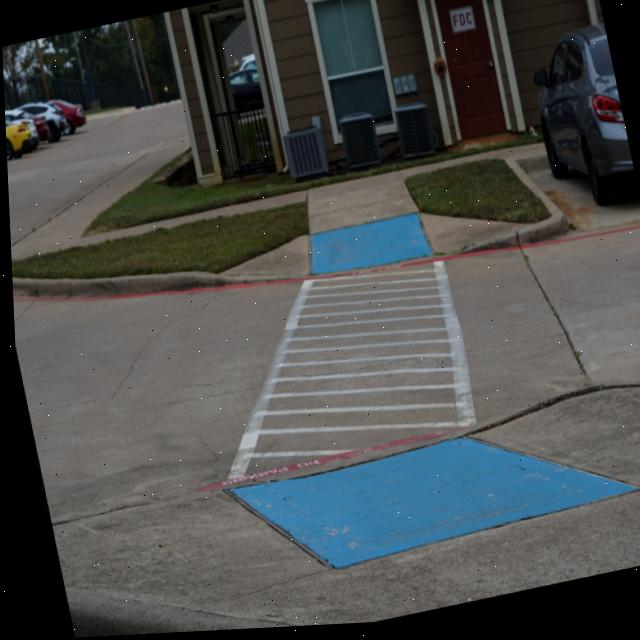Automobile: (533, 29, 633, 212), (4, 100, 85, 160), (229, 68, 262, 112)
Road: (10, 253, 581, 519), (6, 109, 181, 240), (522, 237, 640, 389)
Sidewalk: (47, 395, 640, 638), (9, 139, 567, 284), (75, 149, 540, 244), (9, 234, 36, 259)
